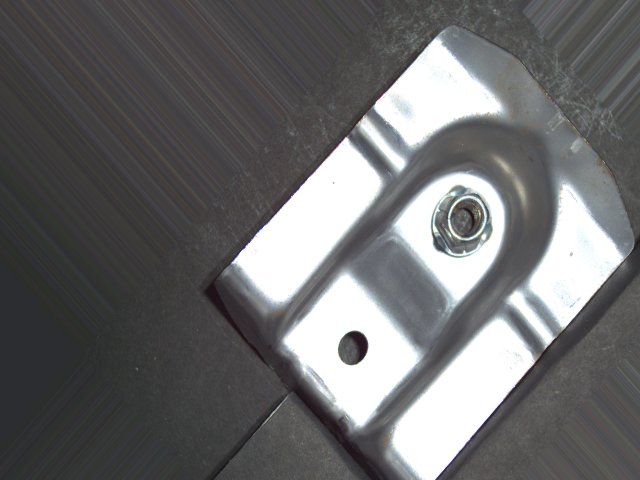good: (420, 181, 500, 260)
